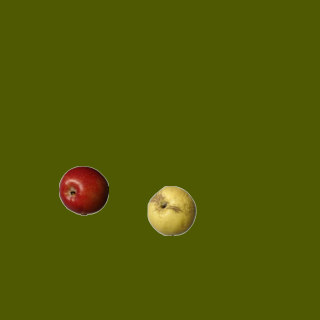Apple Braeburn: (58, 165, 108, 215)
Apple Golden 1: (146, 185, 196, 235)
